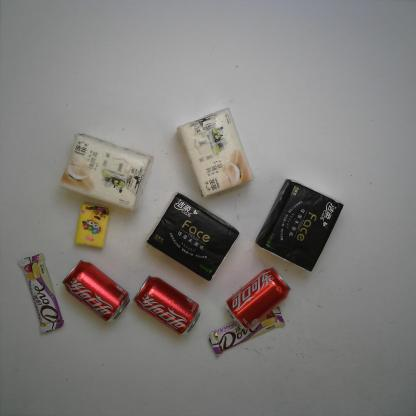Chocolate: (208, 304, 286, 358), (18, 249, 64, 334)
Drink: (62, 260, 131, 320), (224, 268, 291, 328), (132, 276, 200, 335)
Tissue: (254, 180, 344, 272), (147, 192, 239, 281), (58, 131, 154, 212), (177, 107, 254, 198), (72, 202, 110, 249)
